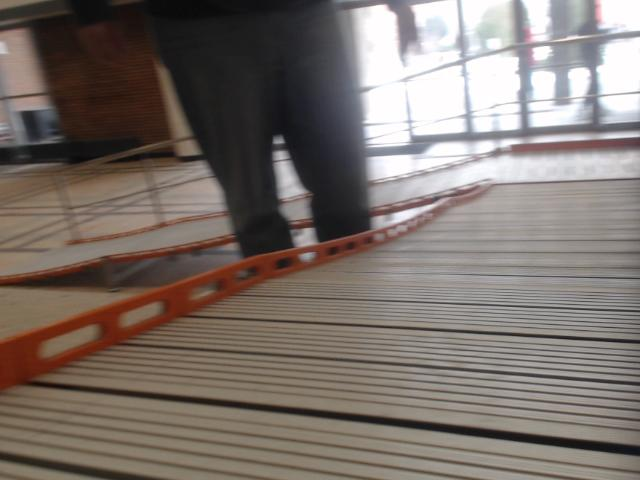rampDown: (0, 142, 639, 479), (0, 212, 234, 282), (283, 195, 311, 227)
ramps-railing: (364, 30, 639, 91), (55, 136, 194, 240)
